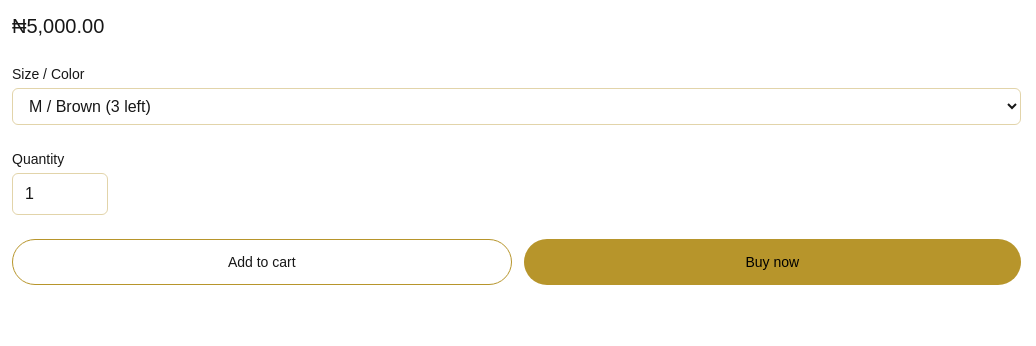
Test: ProductDetailClient › shows an error message when adding to cart fails
Click the button "Add to cart": point(262, 262) x1=12 y1=239 x2=512 y2=285
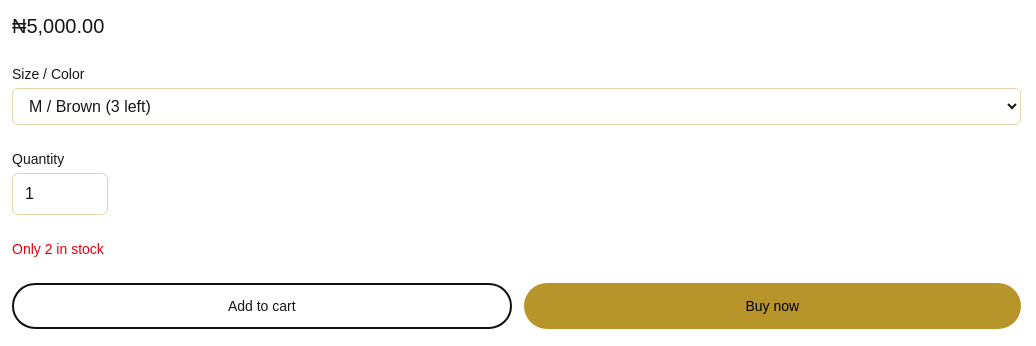
Now the text "Only 2 in stock" is shown, box x1=12 y1=241 x2=104 y2=257
